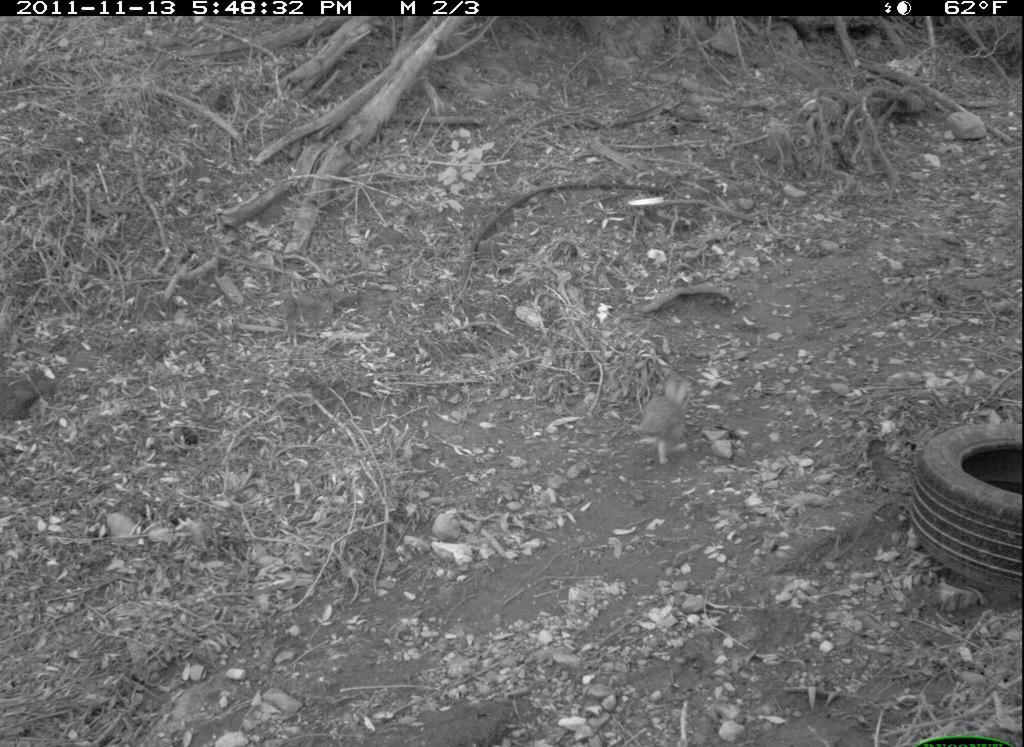rabbit: (632, 378, 699, 470)
